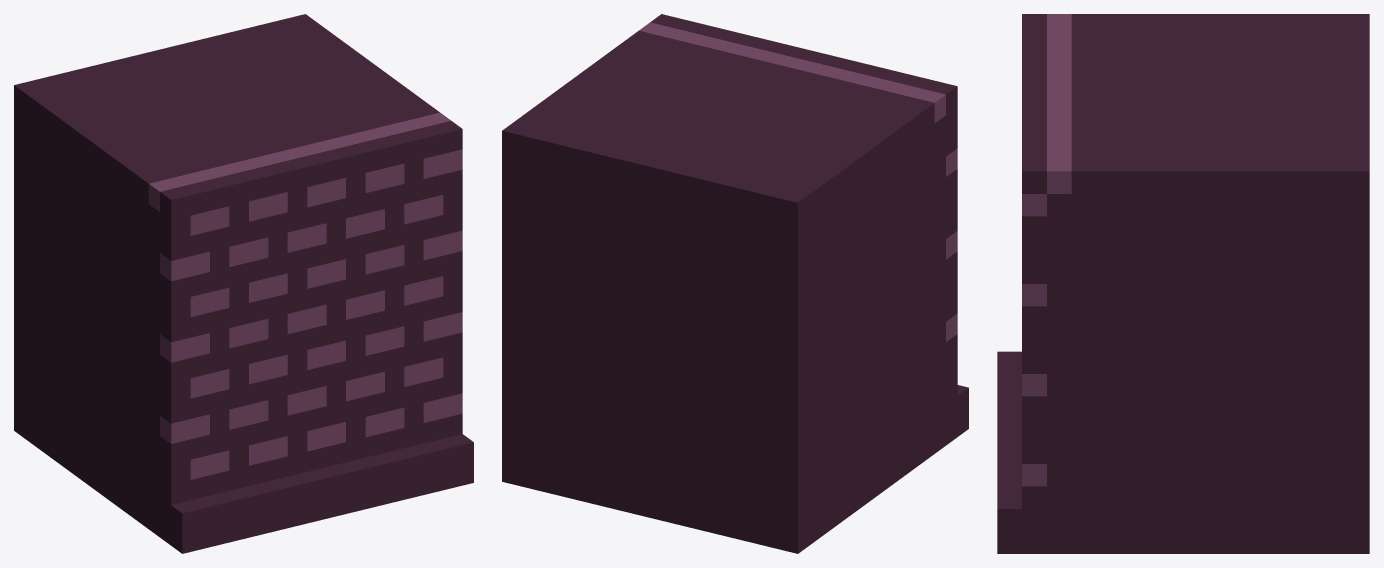
Rendered from dungeon_c_a_outer_wall_segment_a.obj.
3 views of the same model, side by side, from view 1: azimuth 30°, elevation 25°; view 2: azimuth 150°, elevation 25°; view 3: azimuth 270°, elevation 25° (orthographic). The views are drawn at different scales.
Size of the model in its own units: 1.5 by 1.7 by 1.5.
Materials: 1 (1 with a texture image).
